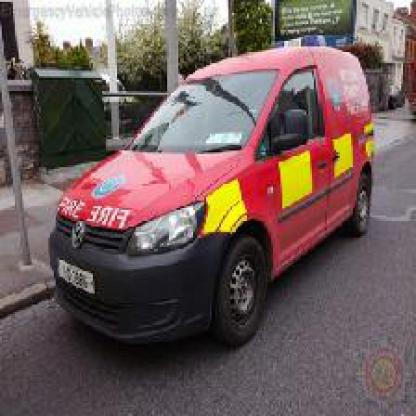emergency: (46, 50, 379, 338)
